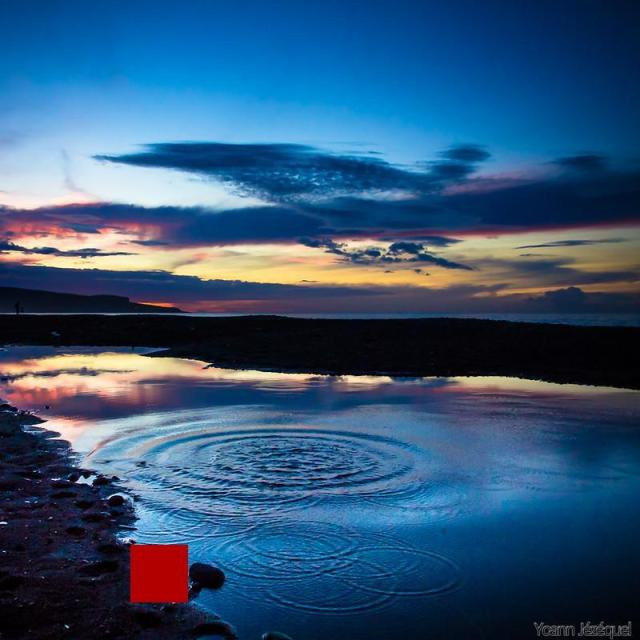RedSquare: (121, 538, 197, 607)
